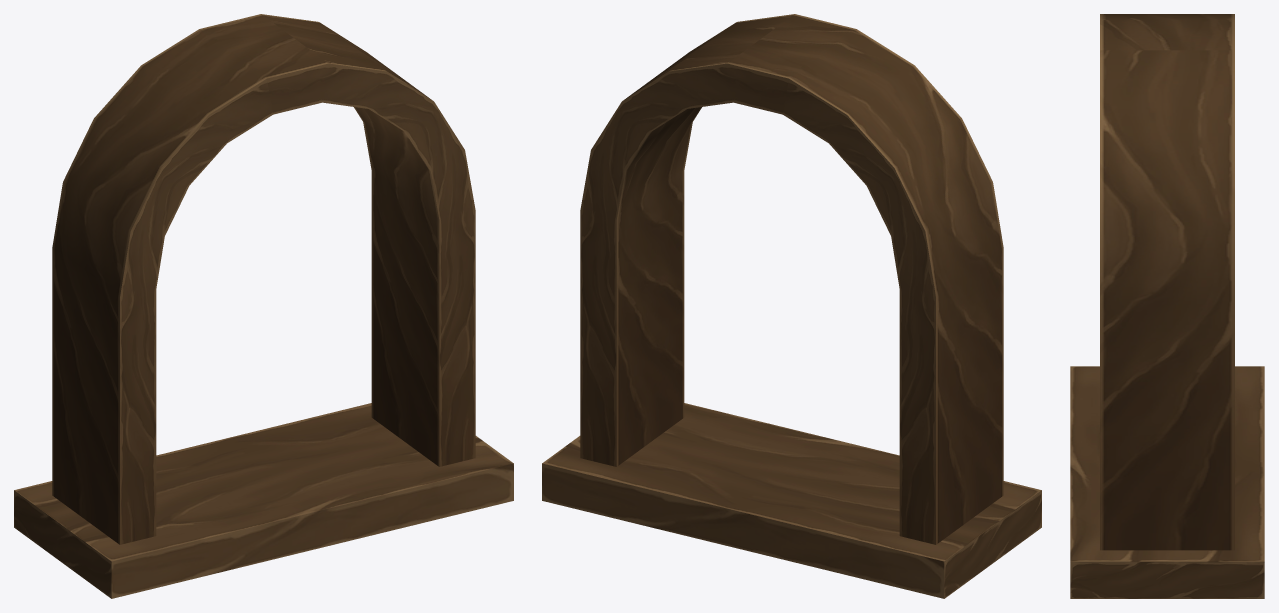
File: Window_1_2.FBX
3 views of the same model, side by side, from view 1: azimuth 30°, elevation 25°; view 2: azimuth 150°, elevation 25°; view 3: azimuth 270°, elevation 25° (orthographic).
Visible parts, largest first — view 1: Window_1_2; view 2: Window_1_2; view 3: Window_1_2.
Part boxes in pixels (x1,y1,x2,y2): Window_1_2: (14,14,513,598); Window_1_2: (542,14,1041,598); Window_1_2: (1070,14,1264,598).
Size of the model in its own units: 996 by 1107 by 418.
